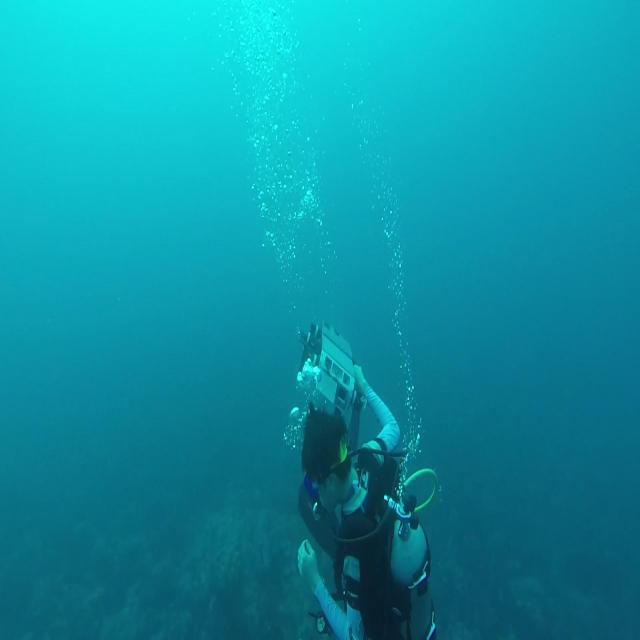human: (295, 365, 438, 638)
